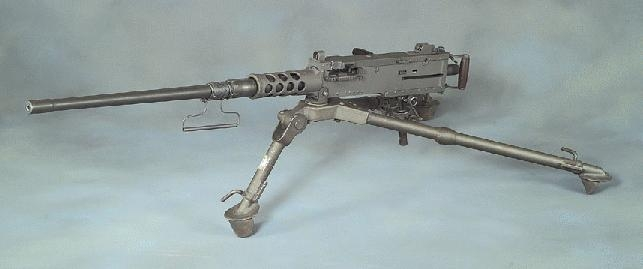rifle: (3, 23, 613, 258)
